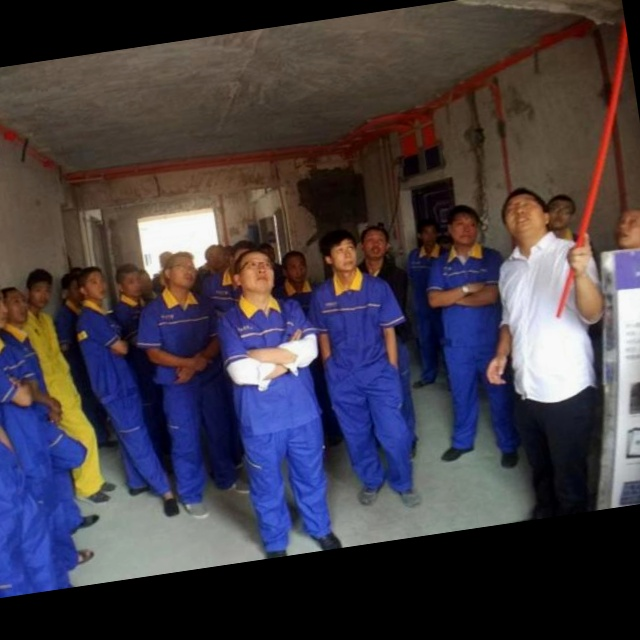Sin_Casco_Mascarrilla: (497, 185, 550, 239), (230, 247, 278, 301), (317, 228, 360, 276), (445, 202, 482, 249)
